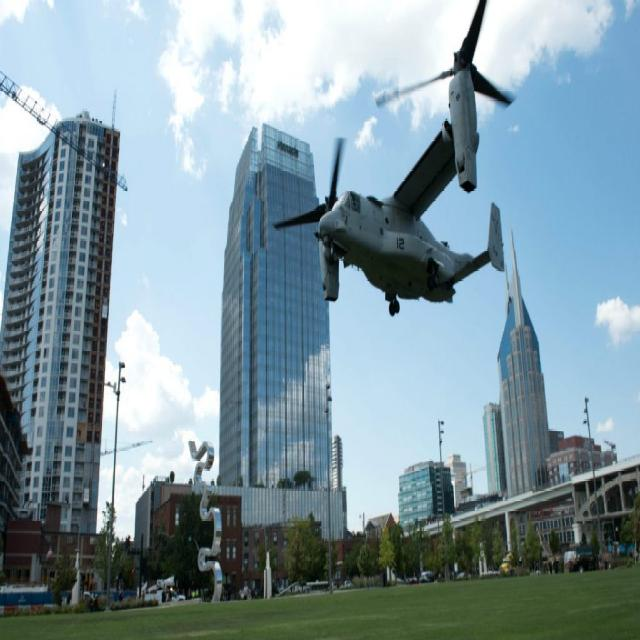MIL_Plane: (272, 1, 514, 318)
